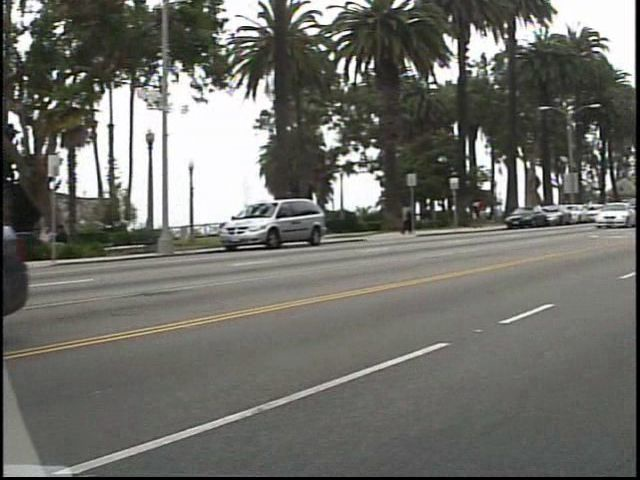person: (408, 201, 429, 240), (480, 195, 499, 230)
